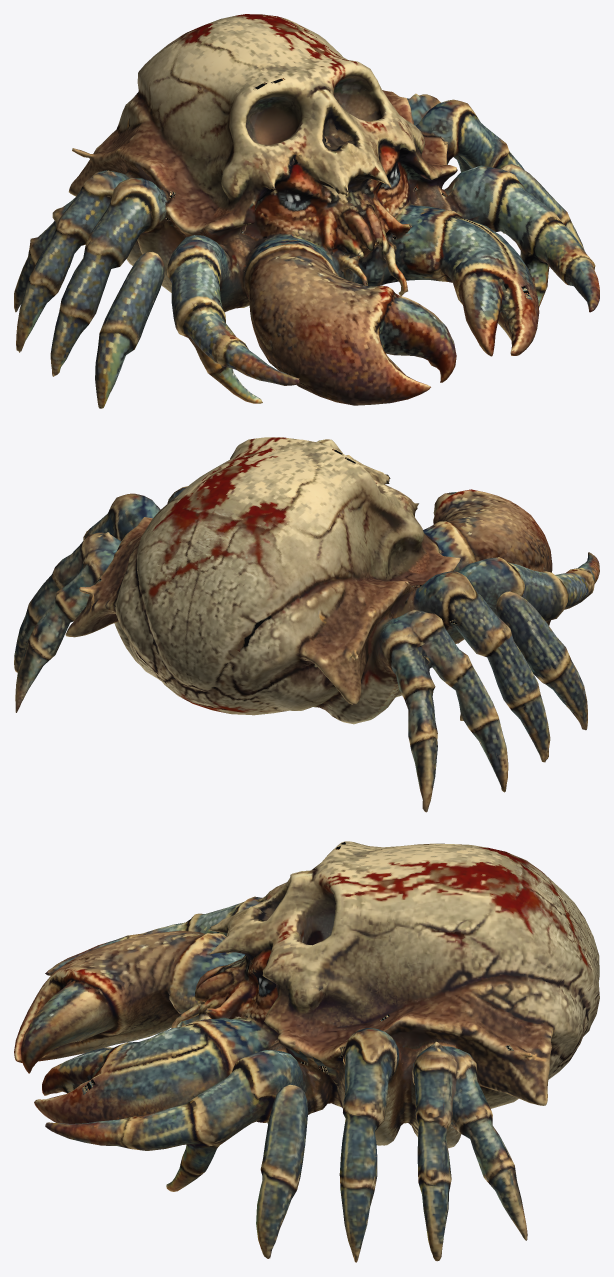
File: Skull Crab LP.glb
3 views of the same model, one above another, from view 1: azimuth 30°, elevation 25°; view 2: azimuth 150°, elevation 25°; view 3: azimuth 270°, elevation 25° (orthographic). The views are drawn at different scales.
Visible parts, largest first — view 1: Mesh0; view 2: Mesh0; view 3: Mesh0.
Part boxes in pixels (x1=…): Mesh0: x1=14, y1=14, x2=599, y2=408; Mesh0: x1=14, y1=437, x2=599, y2=812; Mesh0: x1=14, y1=841, x2=599, y2=1262.
Bounding box in the file's own units: 1.91 × 0.9585 × 1.82.
Materials: 1 (1 with a texture image).
